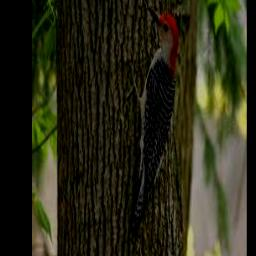Woodpecker: (126, 4, 179, 227)
